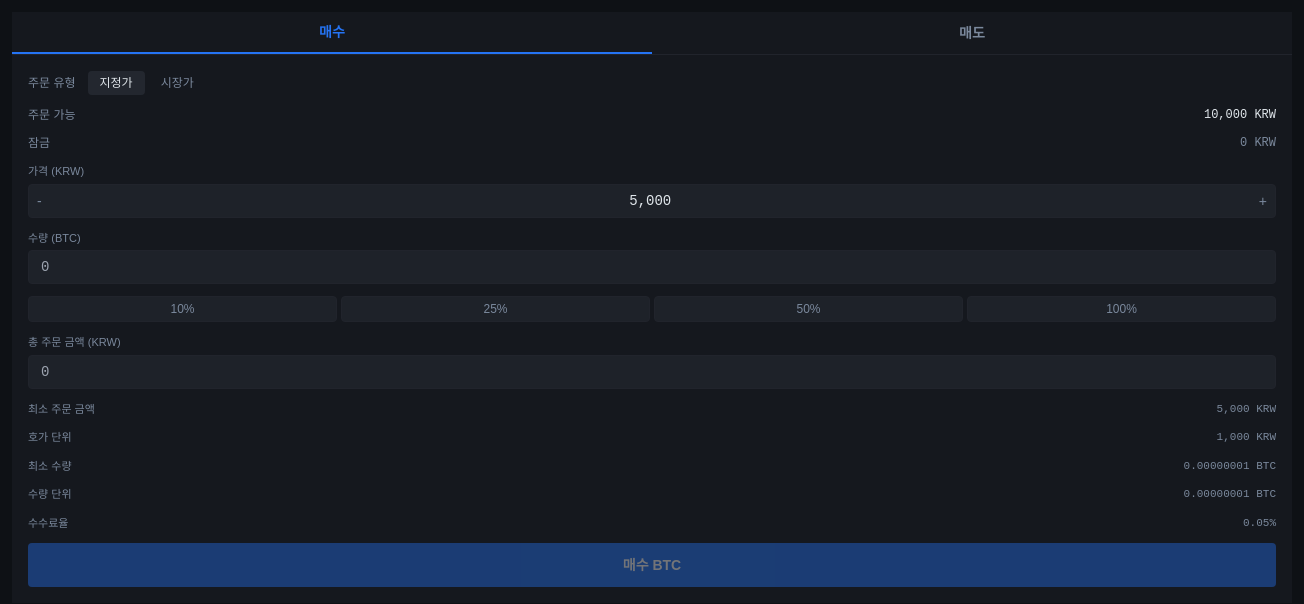
OrderForm market orders › refreshes account data again after a market order can complete asynchronously
Click the button with test id "order-type-market" at {"x": 177, "y": 83}, box [149,71,206,95]
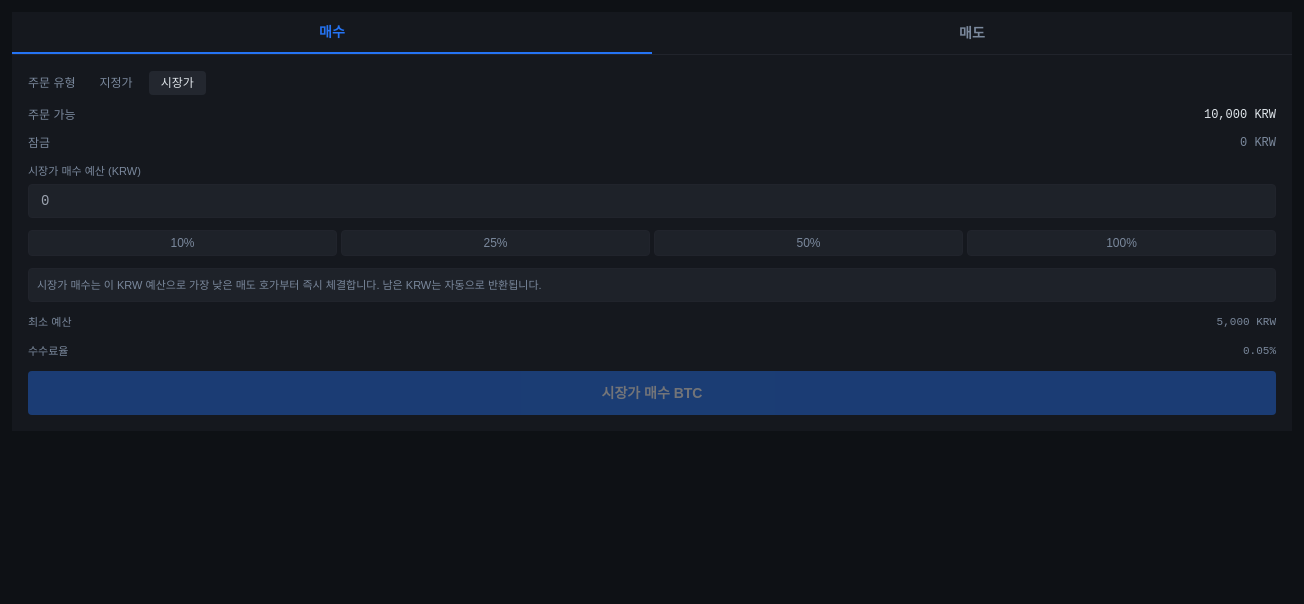
Type "10000" into the field with test id "order-amount" at {"x": 652, "y": 200}, box [28,184,1276,218]
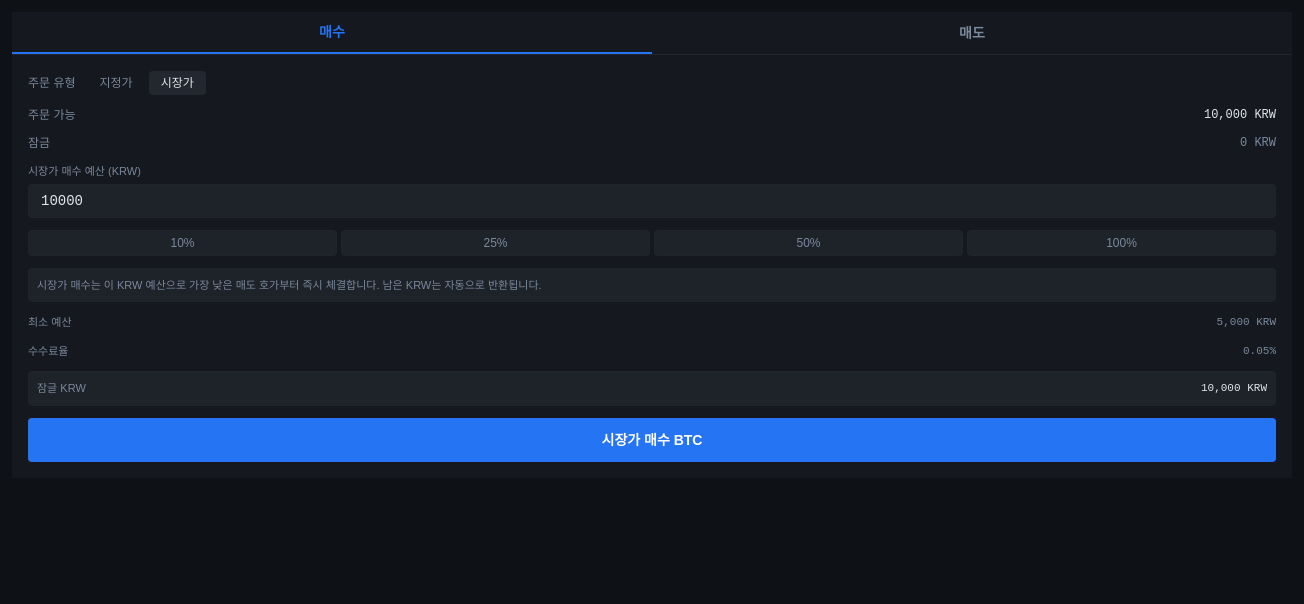
Click the button with test id "submit-order" at {"x": 652, "y": 440}, box [28,418,1276,462]
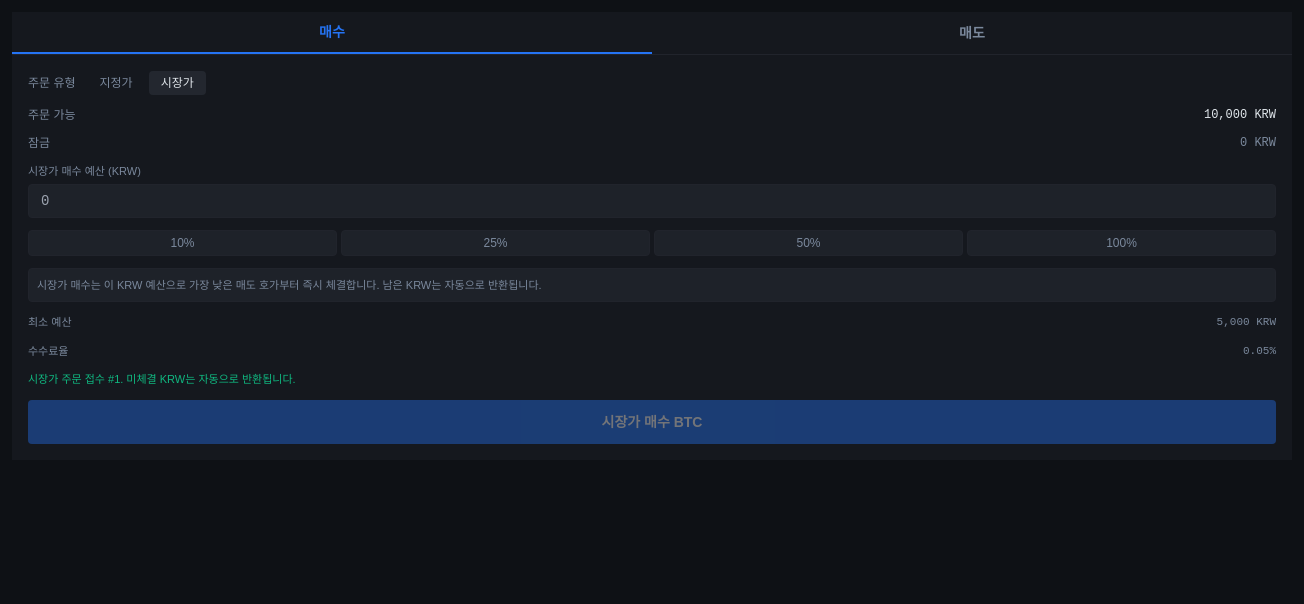
Check: the text with test id "order-message" shows "시장가 주문 접수 #1", box [28,373,296,385]
